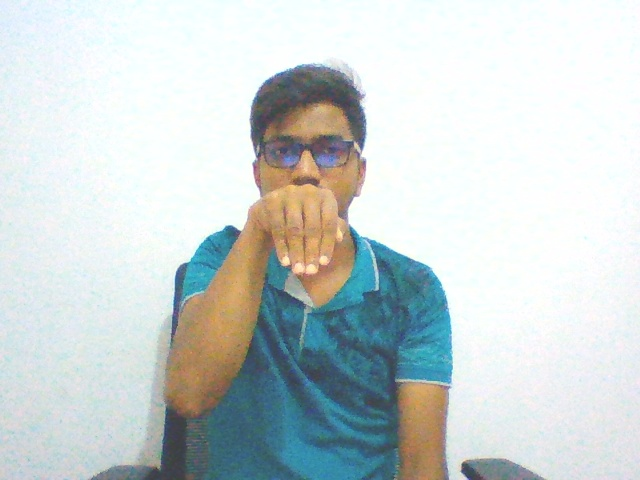Squirrel: (243, 181, 355, 283)
